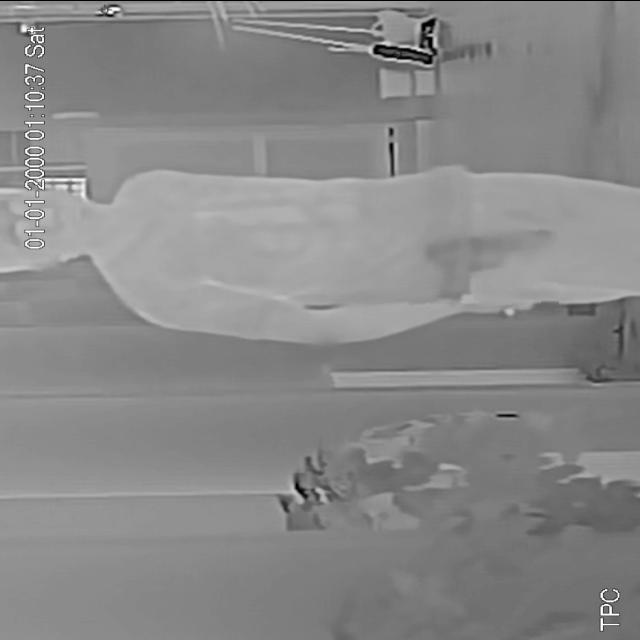Weapon: (406, 210, 558, 310)
